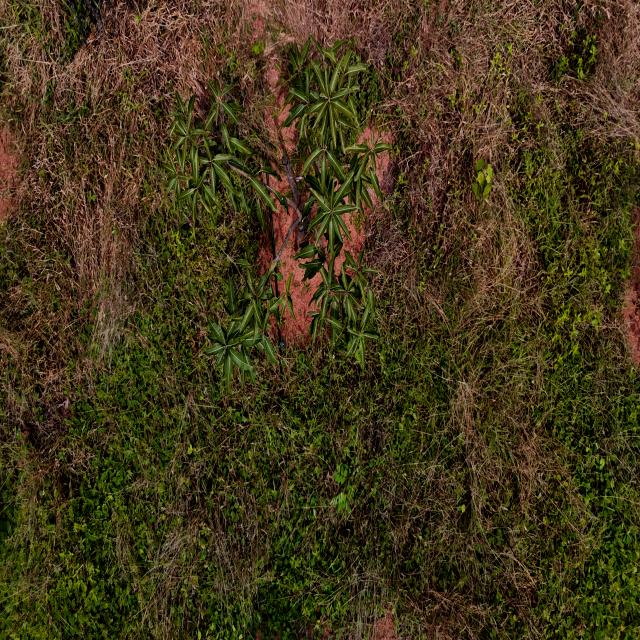mangoTree: (158, 34, 398, 404)
